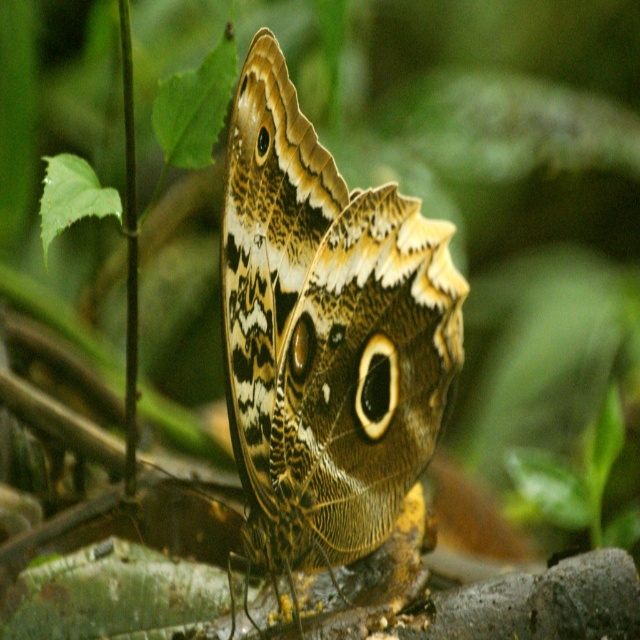Butterfly: (229, 11, 437, 527)
